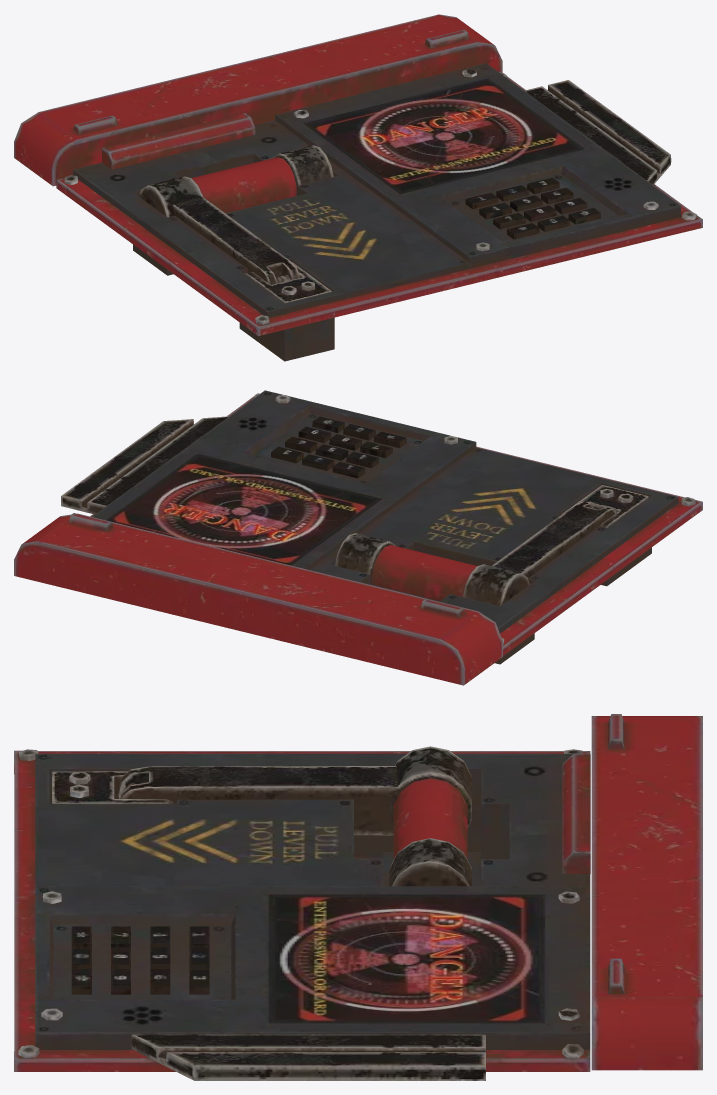
The model's file is control-panel.glb.
The picture shows the model from 3 angles, top to bottom: view 1: azimuth 30°, elevation 25°; view 2: azimuth 150°, elevation 25°; view 3: azimuth 270°, elevation 25°; orthographic projection. The views are drawn at different scales.
Visible parts, largest first — view 1: body_low_lambert5_0, button_10_low_defaultPolygonShader2_0; view 2: body_low_lambert5_0, button_10_low_defaultPolygonShader2_0; view 3: body_low_lambert5_0, button_10_low_defaultPolygonShader2_0.
Boxes of the visible parts, x1,y1,x2,y2 form: body_low_lambert5_0: (14,14,702,361); button_10_low_defaultPolygonShader2_0: (465,177,600,239); body_low_lambert5_0: (14,390,702,685); button_10_low_defaultPolygonShader2_0: (271,416,406,478); body_low_lambert5_0: (14,714,702,1080); button_10_low_defaultPolygonShader2_0: (71,926,209,994).
Size of the model in its own units: 0.5986 by 0.11 by 0.5234.
Materials: 2 (2 with a texture image).
